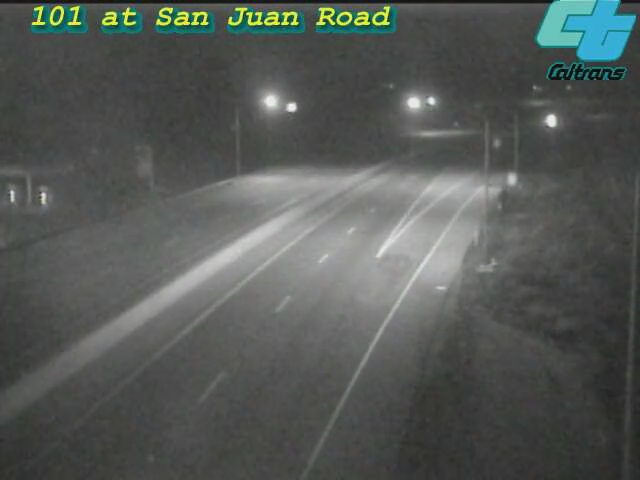vehicle: (527, 96, 577, 146)
